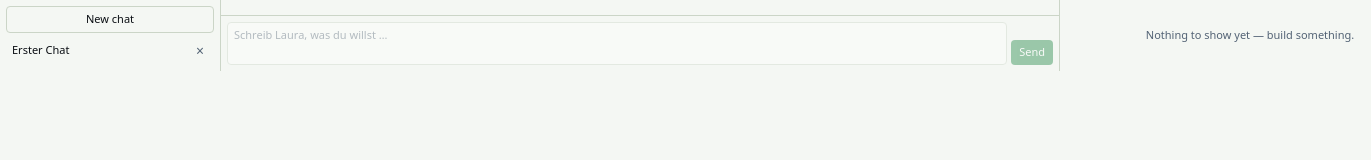
ChatStage › a failed send's error banner clears the moment the next send starts
Click the text "Erster Chat". click: x=41, y=50
box: [12,42,69,57]
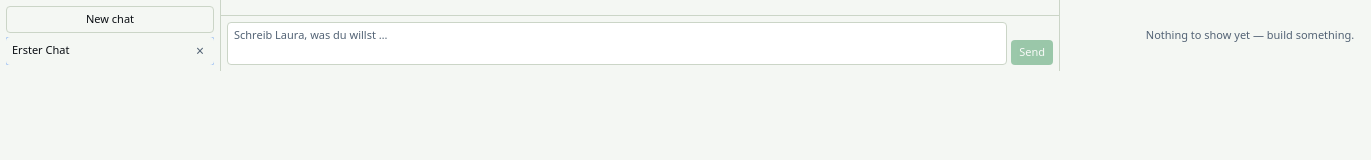
Type "Hallo" into the text box named "Nachricht". click: x=617, y=43
box: [227,22,1007,64]
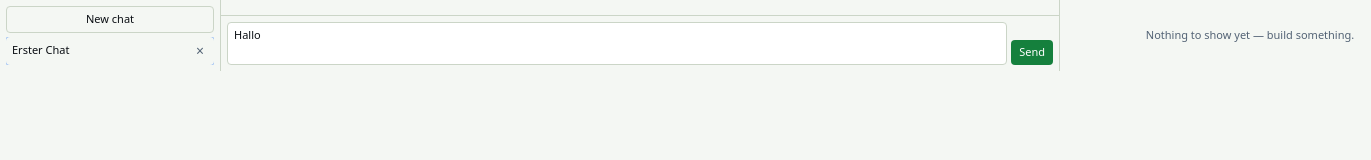
Click the button "Send". click: x=1032, y=52
box: [1011,40,1053,64]
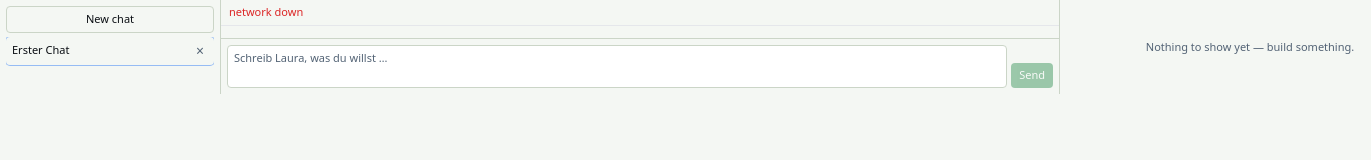
Check: the text "network down" is shown, box [221,0,1059,26]
Type "Nochmal" into the text box named "Nachricht". click: x=617, y=66
box: [227,44,1007,88]
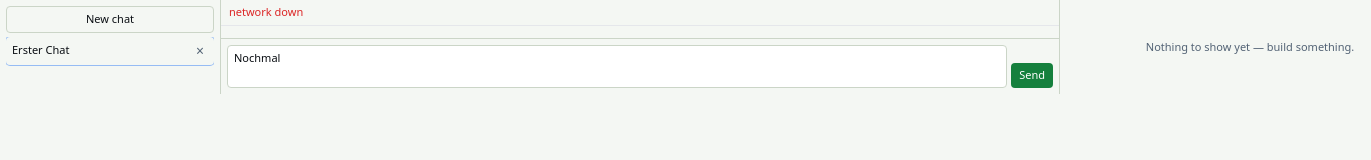
Click the button "Send". click: x=1032, y=75
box: [1011,63,1053,88]
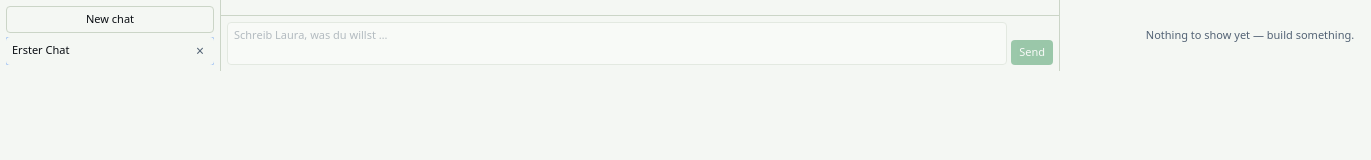
Check: the message "network down" is gone
